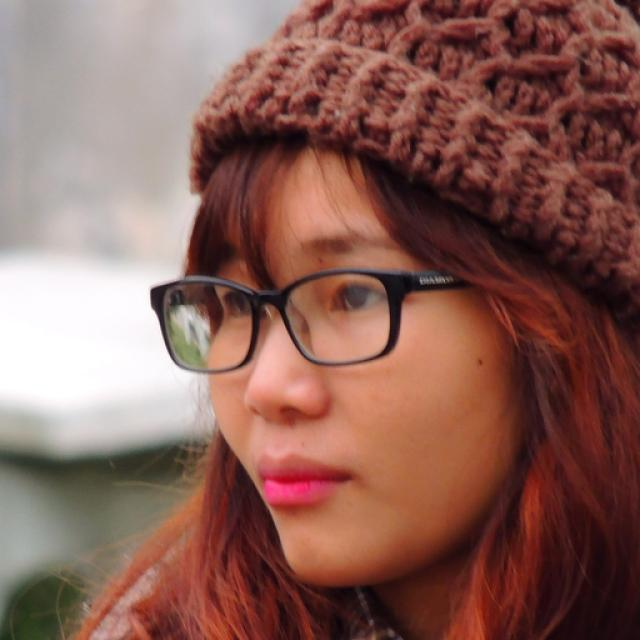neutral: (204, 143, 527, 592)
